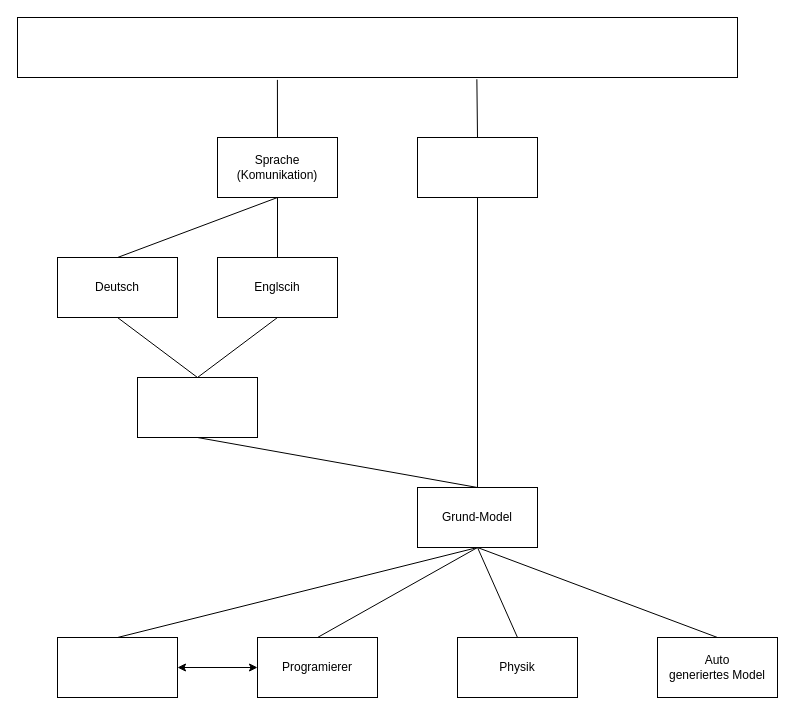
Image size: 795x715. Some labels were removed from this diagram. Here are the shapes that lost their labels. From the top down, the centre of each, then its label:
(x=377, y=47): KI-Team
(x=477, y=167): Mathematik
(x=197, y=407): Übersetzer
(x=117, y=667): Informatiker
